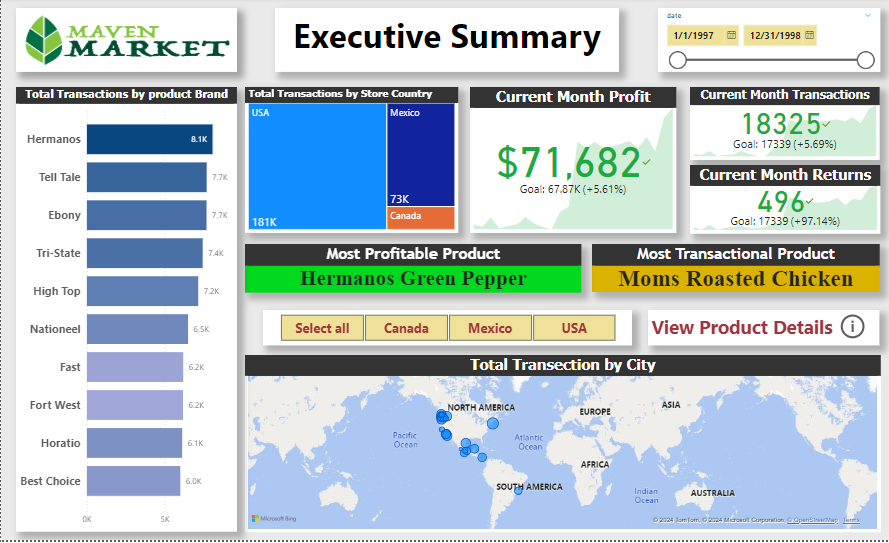

The page's visual inventory and layout, read from the dashboard file:
{"tool":"powerbi","page":{"name":"Executive Summary","canvas":[1280,780],"ordinal":0},"visuals":[{"type":"image","box":[21.7,15,318.3,91.7],"z":0},{"type":"kpi","title":"Current Month Transactions","fields":{"Indicator":["BaseMeasure.Total Transactions"],"TrendLine":["Calendar.Start of Month"],"Goal":["BaseMeasure.Last Month Transactions"]},"box":[991.7,128.3,273.3,105],"z":1000},{"type":"kpi","title":"Current Month Profit","fields":{"TrendLine":["Calendar.Start of Month"],"Indicator":["BaseMeasure.Total Profit"],"Goal":["BaseMeasure.Last Month Profit"]},"box":[675,128.3,296.7,210],"z":2000},{"type":"map","title":"Total Transection by City","fields":{"Category":["Stores.store_city"],"Size":["BaseMeasure.Total Transactions"]},"box":[351.7,513.3,915,255],"z":3000},{"type":"kpi","title":"Current Month Returns","fields":{"TrendLine":["Calendar.Start of Month"],"Goal":["BaseMeasure.Last Month Transactions"],"Indicator":["BaseMeasure.Total Returns"]},"box":[991.4,240,274.3,98.6],"z":4000},{"type":"slicer","fields":{"Values":["Stores.store_country"]},"box":[380,448.3,531.7,51.7],"z":5000},{"type":"card","title":"Most Transactional Product","fields":{"Values":["Min(Products.product_name)"]},"box":[853.3,366.7,413.3,68.3],"z":6000},{"type":"card","title":"Most Profitable Product","fields":{"Values":["Min(Products.product_name)"]},"box":[351.7,366.7,483.3,70],"z":7000},{"type":"textbox","box":[395,15,495,91.7],"z":8000},{"type":"barChart","title":"Total Transactions by product Brand","fields":{"Category":["Products.product_brand"],"Y":["BaseMeasure.Total Transactions"]},"box":[21.7,128.3,318.3,640],"z":9000},{"type":"treemap","title":"Total Transactions by Store Country","fields":{"Group":["Stores.store_country"],"Values":["BaseMeasure.Total Transactions"]},"box":[351.7,128.3,306.7,210],"z":10000},{"type":"slicer","fields":{"Values":["Calendar.date"]},"box":[945,15,320,91.7],"z":11000},{"type":"textbox","box":[931.4,448.6,332.9,51.4],"z":12000},{"type":"actionButton","box":[1202.5,446.2,45,53.8],"z":13000}]}

Visuals, with their boxes in screenshot pixels (x1, y1, x2, y2), scaled from the page's 1280x780 canvas onto the 889x543 screenshot:
image: crop(15, 10, 236, 74)
"Current Month Transactions" kpi: crop(689, 89, 879, 162)
"Current Month Profit" kpi: crop(469, 89, 675, 236)
"Total Transection by City" map: crop(244, 357, 880, 535)
"Current Month Returns" kpi: crop(689, 167, 879, 236)
slicer - Stores.store_country: crop(264, 312, 633, 348)
"Most Transactional Product" card: crop(593, 255, 880, 303)
"Most Profitable Product" card: crop(244, 255, 580, 304)
textbox: crop(274, 10, 618, 74)
"Total Transactions by product Brand" barChart: crop(15, 89, 236, 535)
"Total Transactions by Store Country" treemap: crop(244, 89, 457, 236)
slicer - Calendar.date: crop(656, 10, 879, 74)
textbox: crop(647, 312, 878, 348)
actionButton: crop(835, 311, 866, 348)
